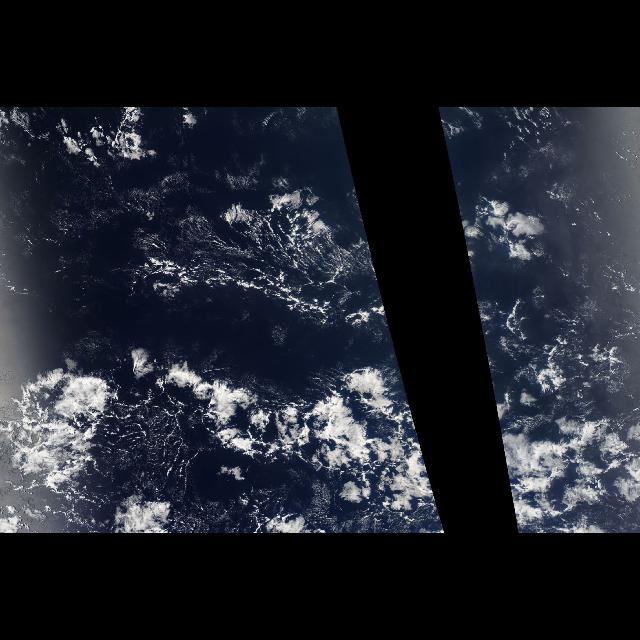Fish: (10, 353, 442, 519), (485, 353, 639, 519)
Gravel: (42, 122, 390, 360), (105, 406, 188, 490)
Sugar: (10, 160, 270, 203)
